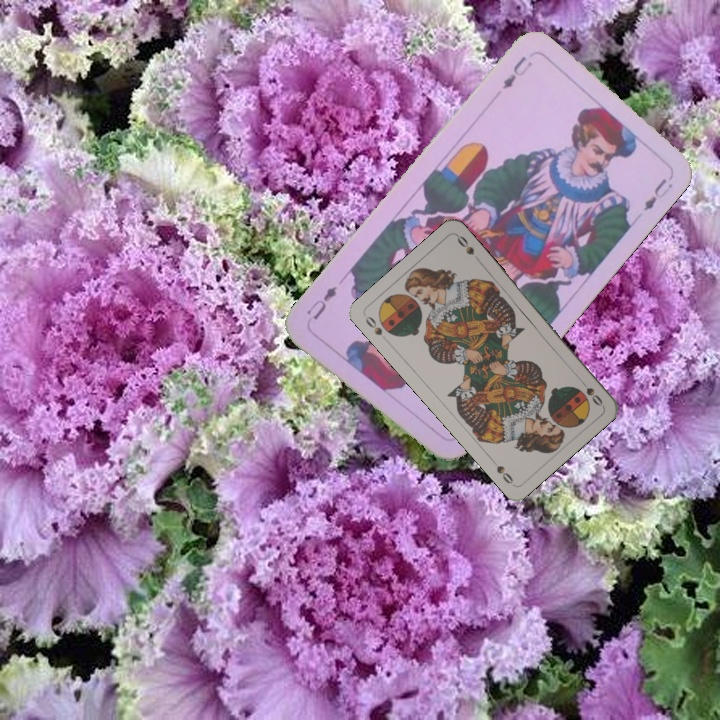EU: (498, 52, 535, 92)
SO: (575, 375, 605, 409), (361, 312, 385, 338)
